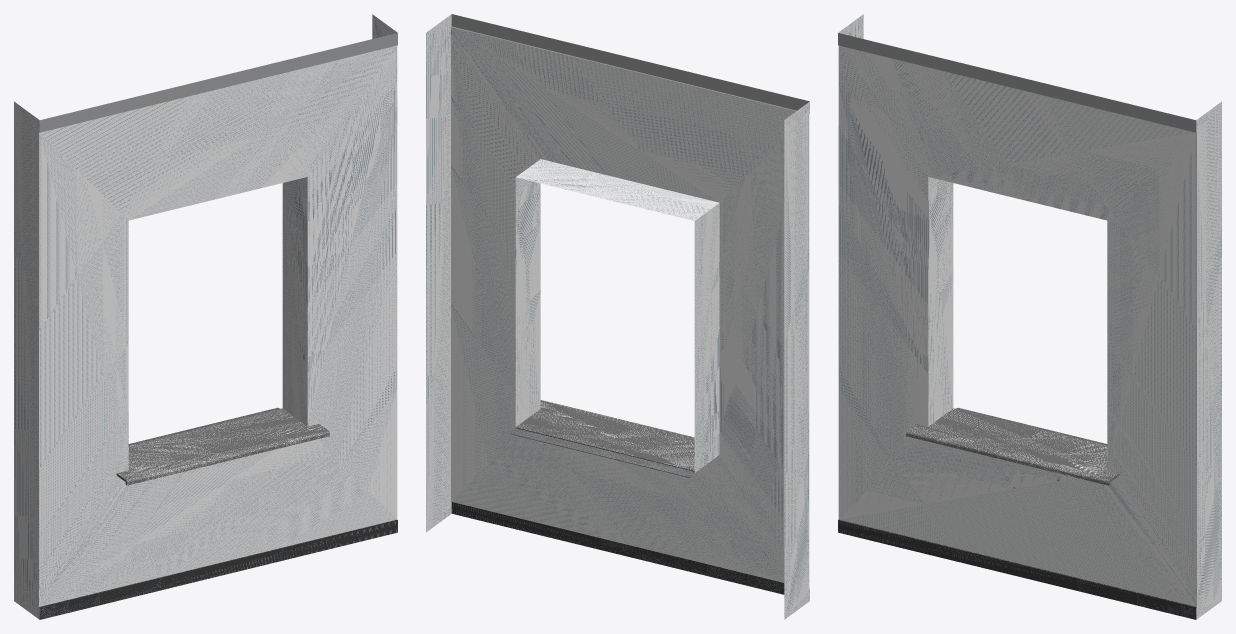
File: WindowBlock_os_plinth_[300x400]_150x200x[100].dae
The picture shows the model from 3 angles, left to right: view 1: azimuth 30°, elevation 25°; view 2: azimuth 150°, elevation 25°; view 3: azimuth 330°, elevation 25°; orthographic projection.
Visible parts, largest first — view 1: group_1 (×4), group_2; view 2: group_1 (×4), group_2 (×2); view 3: group_1 (×4), group_2.
Boxes of the visible parts, x1,y1,x2,y2 form: group_1 (×4): (14,14,397,619); group_2: (116,408,329,485); group_1 (×4): (426,14,809,619); group_2 (×2): (511,400,694,477); group_1 (×4): (838,14,1221,619); group_2: (906,408,1118,485).
Bounding box in the file's own units: 118 × 23.03 × 157.
